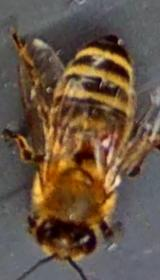varroa_mite: (81, 116, 129, 162)
